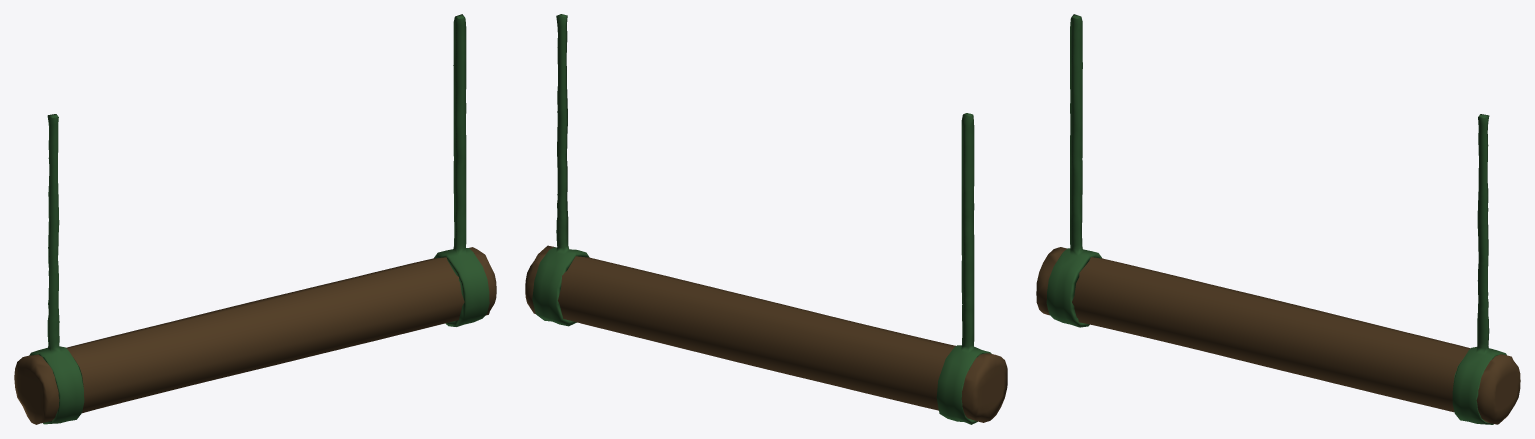
The model's file is tronco.fbx.
The picture shows the model from 3 angles, left to right: view 1: azimuth 30°, elevation 25°; view 2: azimuth 150°, elevation 25°; view 3: azimuth 330°, elevation 25°; orthographic projection.
Parts seen in each view (by area): view 1: polySurface3; view 2: polySurface3; view 3: polySurface3.
Boxes of the visible parts, <box> form: polySurface3: <box>14,14,496,424</box>; polySurface3: <box>525,14,1007,424</box>; polySurface3: <box>1036,14,1520,424</box>.
Size of the model in its own units: 11.19 by 7.21 by 1.62.
